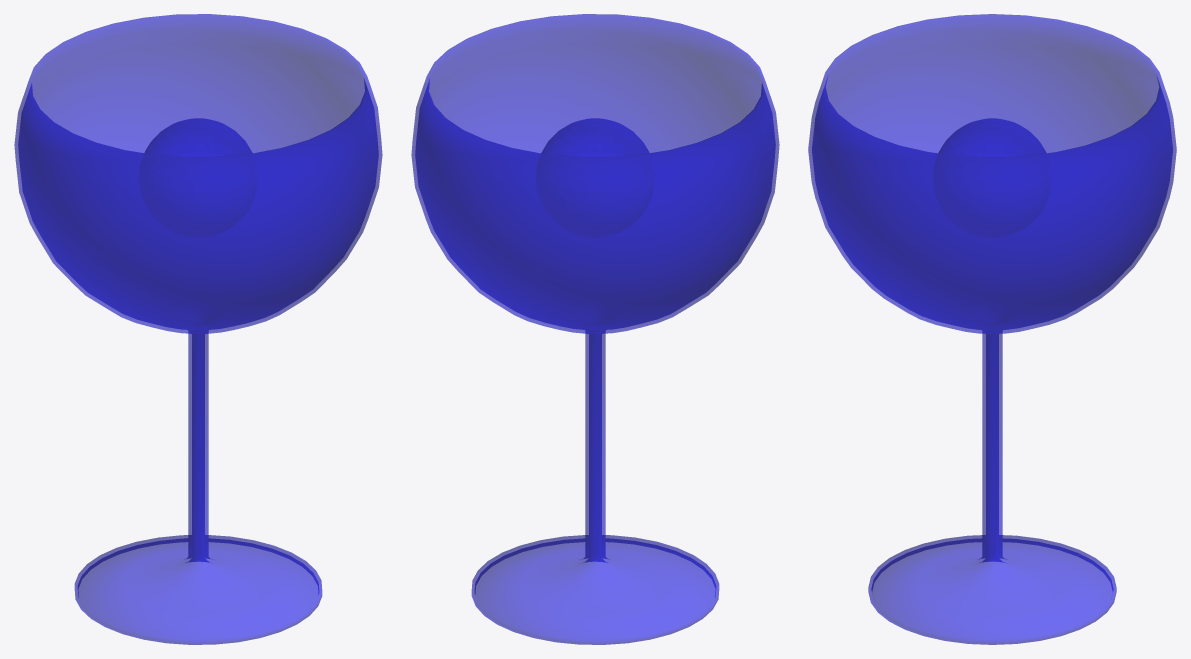
File: objectwineg2.gltf
The picture shows the model from 3 angles, left to right: view 1: azimuth 30°, elevation 25°; view 2: azimuth 150°, elevation 25°; view 3: azimuth 270°, elevation 25°; orthographic projection.
Parts seen in each view (by area): view 1: Sphere; view 2: Sphere; view 3: Sphere.
Boxes of the visible parts, <box> form: Sphere: <box>14,14,382,644</box>; Sphere: <box>411,14,779,644</box>; Sphere: <box>808,14,1176,644</box>.
Size of the model in its own units: 1.61 by 2.43 by 1.61.
